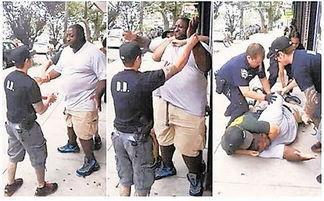Fall-Detected: (215, 86, 311, 160)
